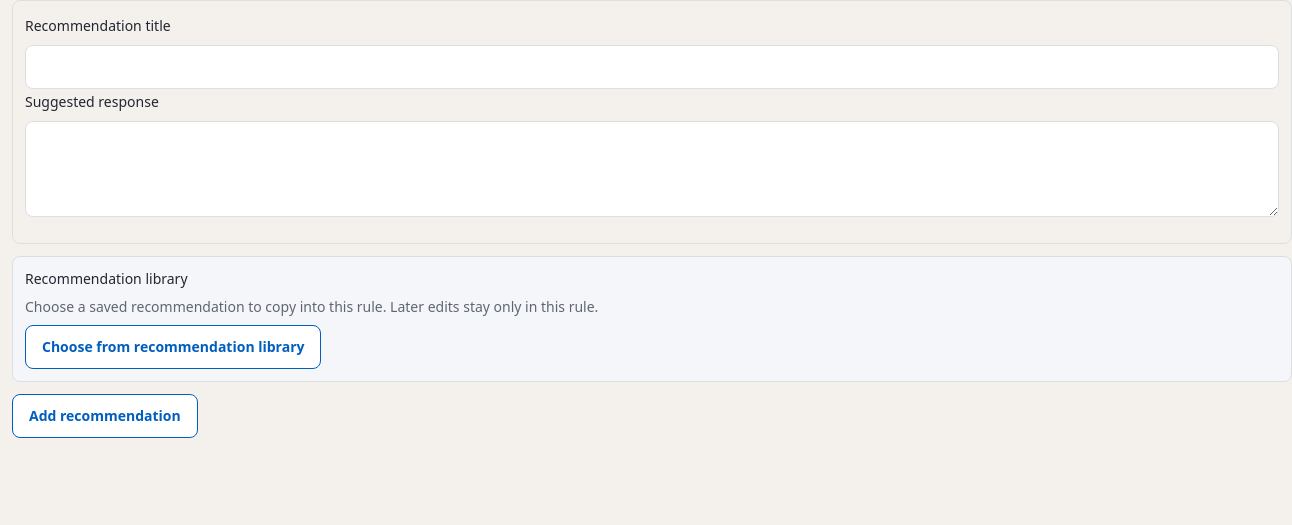
Test case: RecommendationFields list limits › replaces a single blank recommendation with a copied one, collapses it and closes the library
Click the button "Choose from recommendation library": (173, 347) top-left (25, 325), bottom-right (322, 369)
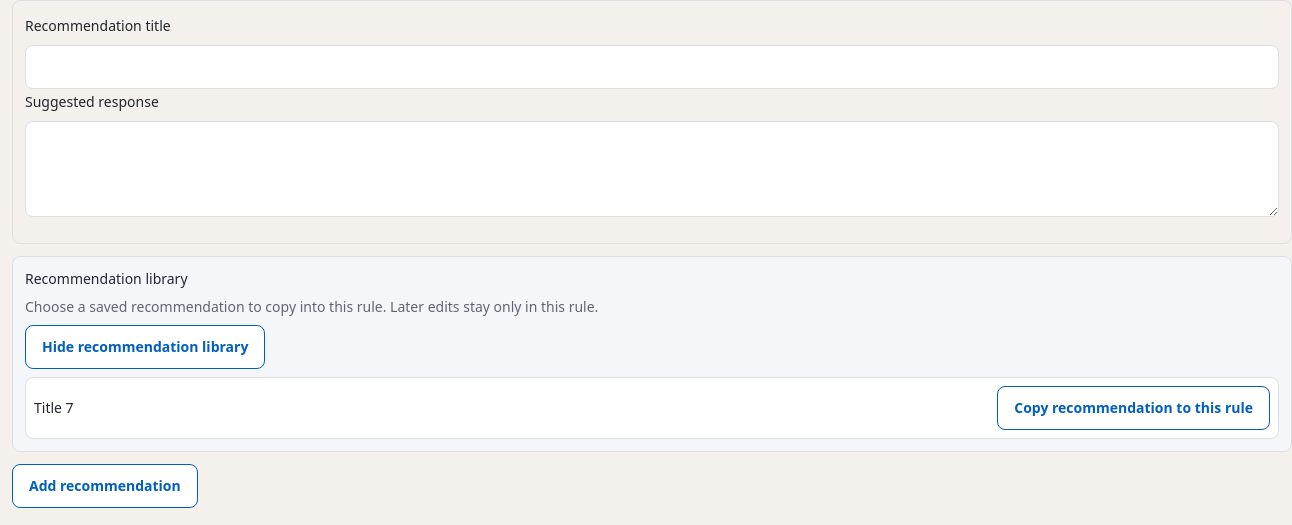
Click the button "Copy recommendation to this rule": (1134, 408) top-left (997, 386), bottom-right (1270, 430)
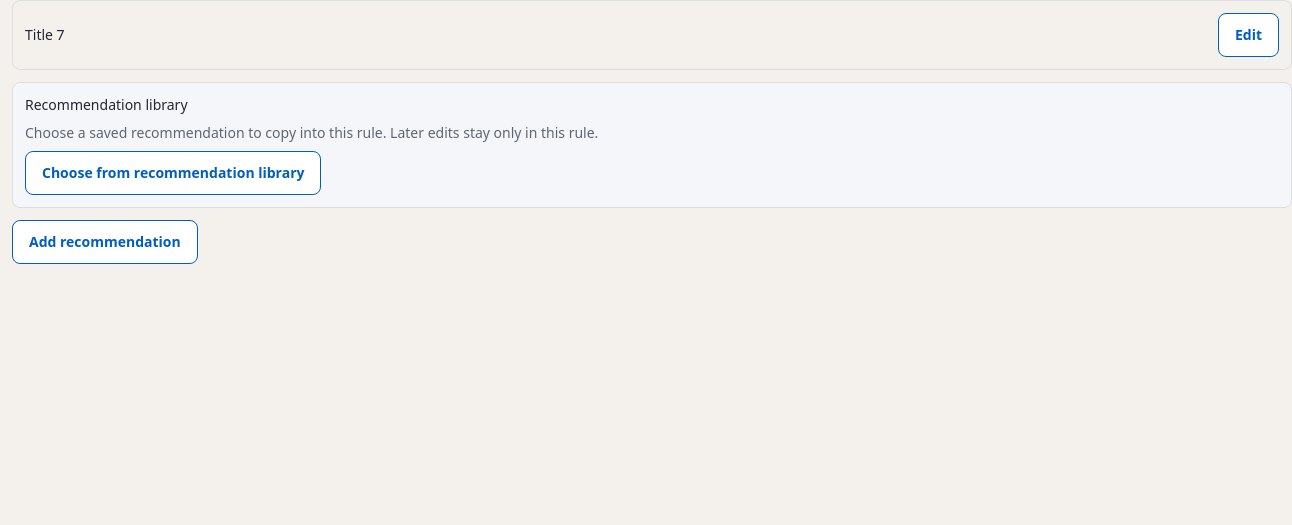
Expected: the text "Title 7" is shown, top-left (25, 25), bottom-right (65, 44)
Expected: the button "Choose from recommendation library" is shown, top-left (25, 151), bottom-right (322, 195)
Expected: the label labelled "Recommendation title" is gone
